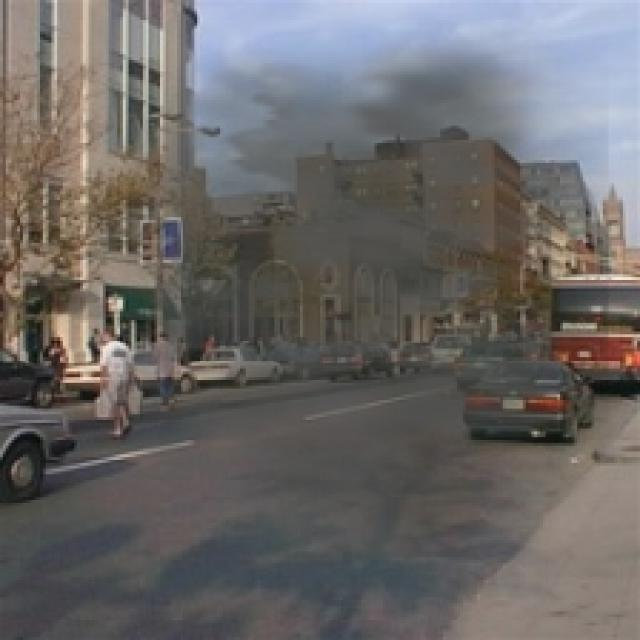smoke: (51, 14, 608, 557)
